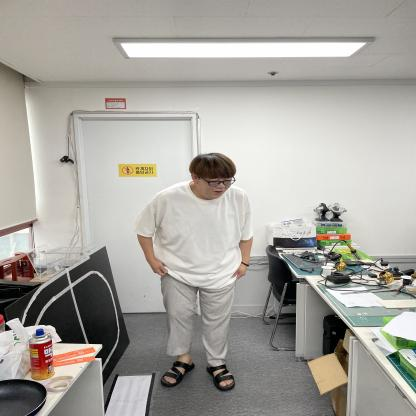normal: (138, 148, 260, 391)
